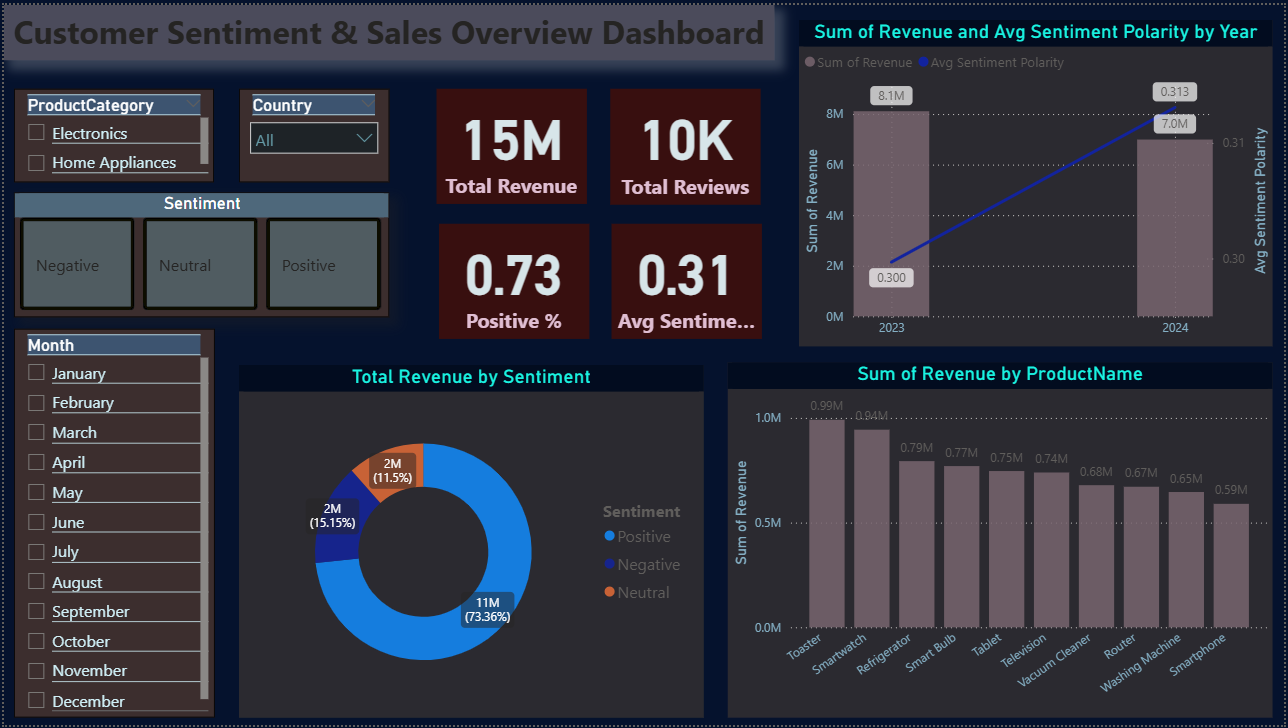

This screenshot's page, from the dashboard's own definition file:
{"tool":"powerbi","page":{"name":"Page 1","canvas":[1280,720],"ordinal":1},"visuals":[{"type":"textbox","box":[0,0,770,55],"z":0},{"type":"card","fields":{"Values":["merged_customer_sentiment_sales.Total Revenue"]},"box":[432.5,83.8,150,115],"z":1000},{"type":"card","fields":{"Values":["merged_customer_sentiment_sales.Total Reviews"]},"box":[606.5,83.2,150.4,116.2],"z":2000},{"type":"card","fields":{"Values":["merged_customer_sentiment_sales.Positive %"]},"box":[435,218.8,150,115],"z":3000},{"type":"card","fields":{"Values":["merged_customer_sentiment_sales.Avg Sentiment Polarity"]},"box":[607.7,218.9,150,115],"z":4000},{"type":"lineClusteredColumnComboChart","fields":{"Category":["merged_customer_sentiment_sales.Month.Variation.Date Hierarchy.Year","merged_customer_sentiment_sales.Month.Variation.Date Hierarchy.Quarter","merged_customer_sentiment_sales.Month.Variation.Date Hierarchy.Month","merged_customer_sentiment_sales.Month.Variation.Date Hierarchy.Day"],"Y":["Sum(merged_customer_sentiment_sales.Revenue)"],"Y2":["merged_customer_sentiment_sales.Avg Sentiment Polarity"]},"box":[795,15,473.8,326.2],"z":5000},{"type":"donutChart","fields":{"Category":["merged_customer_sentiment_sales.Sentiment"],"Y":["merged_customer_sentiment_sales.Total Revenue"]},"box":[235,360,465,352.5],"z":6000},{"type":"columnChart","fields":{"Category":["merged_customer_sentiment_sales.ProductName"],"Y":["Sum(merged_customer_sentiment_sales.Revenue)"]},"box":[723.8,357.5,545,355],"z":7000},{"type":"slicer","fields":{"Values":["merged_customer_sentiment_sales.ProductCategory"]},"box":[10,83.8,200,93.8],"z":8000},{"type":"slicer","fields":{"Values":["merged_customer_sentiment_sales.Country"]},"box":[235,83.8,150,93.8],"z":9000},{"type":"advancedSlicerVisual","fields":{"Values":["merged_customer_sentiment_sales.Sentiment"]},"box":[10,187.5,375,125],"z":10000},{"type":"slicer","fields":{"Values":["merged_customer_sentiment_sales.Month.Variation.Date Hierarchy.Month"]},"box":[9.8,324.1,200.5,388.9],"z":11000}]}

Visuals, with their boxes in screenshot pixels (x1, y1, x2, y2), scaled from the page's 1280x720 canvas onto the 1288x728 screenshot:
textbox: [x1=0, y1=0, x2=775, y2=56]
card - merged_customer_sentiment_sales.Total Revenue: [x1=435, y1=85, x2=586, y2=201]
card - merged_customer_sentiment_sales.Total Reviews: [x1=610, y1=84, x2=762, y2=202]
card - merged_customer_sentiment_sales.Positive %: [x1=438, y1=221, x2=589, y2=338]
card - merged_customer_sentiment_sales.Avg Sentiment Polarity: [x1=611, y1=221, x2=762, y2=338]
lineClusteredColumnComboChart - merged_customer_sentiment_sales.Month.Variation.Date Hierarchy.Year x merged_customer_sentiment_sales.Month.Variation.Date Hierarchy.Quarter: [x1=800, y1=15, x2=1277, y2=345]
donutChart - merged_customer_sentiment_sales.Sentiment x merged_customer_sentiment_sales.Total Revenue: [x1=236, y1=364, x2=704, y2=720]
columnChart - merged_customer_sentiment_sales.ProductName x Sum(merged_customer_sentiment_sales.Revenue): [x1=728, y1=361, x2=1277, y2=720]
slicer - merged_customer_sentiment_sales.ProductCategory: [x1=10, y1=85, x2=211, y2=180]
slicer - merged_customer_sentiment_sales.Country: [x1=236, y1=85, x2=387, y2=180]
advancedSlicerVisual - merged_customer_sentiment_sales.Sentiment: [x1=10, y1=190, x2=387, y2=316]
slicer - merged_customer_sentiment_sales.Month.Variation.Date Hierarchy.Month: [x1=10, y1=328, x2=212, y2=721]
